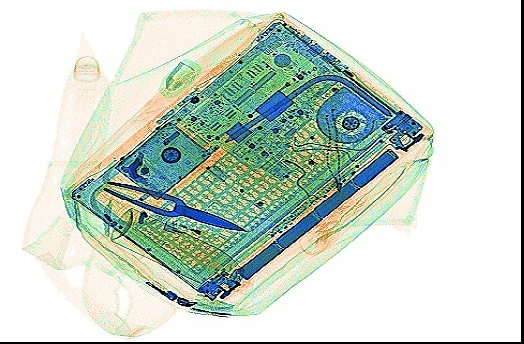pressure: (107, 206, 243, 288)
scissors: (87, 154, 245, 229)
